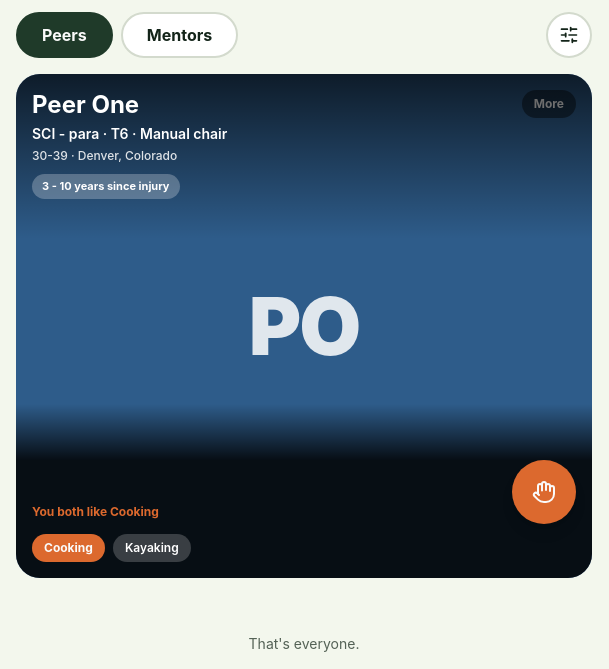
the deck › shows peers by default and mentors behind the other pill
Expected: the heading "Peer One" is shown, [32,90,139,119]
Expected: the text "Mentor One" is not shown
Click the tab "Mentors": click(180, 35) [121,12,238,58]
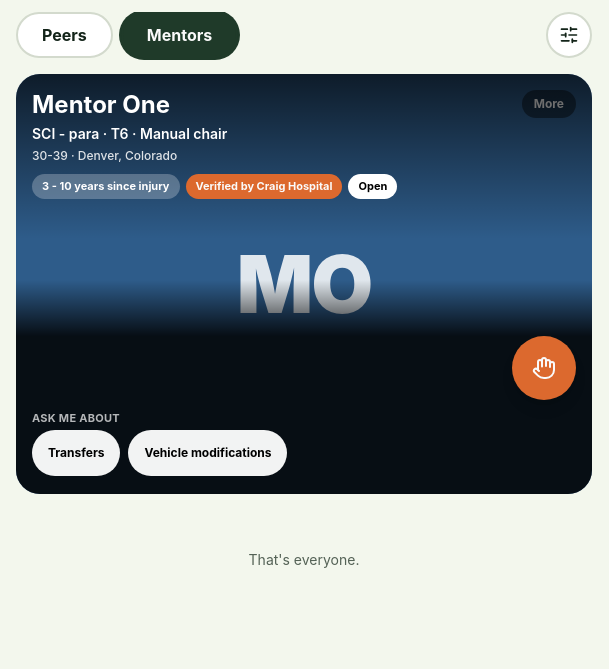
Now the heading "Mentor One" is shown, box [32,90,170,119]
Now the heading "Peer One" is gone
